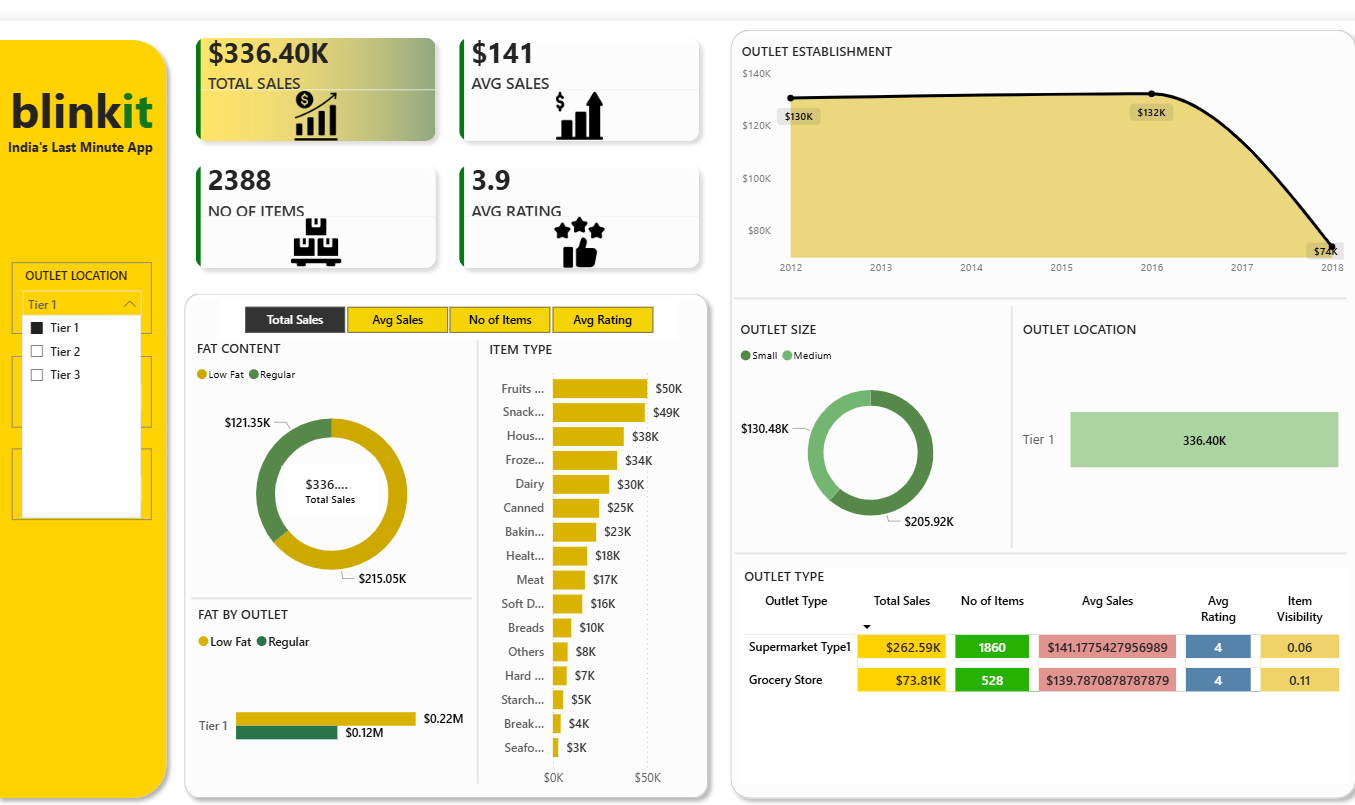

The dashboard page shown, as its layout file describes it:
{"tool":"powerbi","page":{"name":"Page 1","canvas":[1400,800],"ordinal":0},"visuals":[{"type":"shape","box":[0,10.5,190.6,789.5],"z":0},{"type":"textbox","box":[8.9,52.1,173,81.4],"z":1000},{"type":"textbox","box":[15.3,114.5,160.2,30.5],"z":2000},{"type":"cardVisual","fields":{"Data":["BlinkIT Grocery Data.Total Sales","BlinkIT Grocery Data.Avg Sales","BlinkIT Grocery Data.No of Items","BlinkIT Grocery Data.Avg Rating"]},"box":[194.6,0,546.9,268.3],"z":3000},{"type":"shape","box":[190.6,268.7,550.8,531.3],"z":4000},{"type":"donutChart","title":"FAT CONTENT","fields":{"Y":["BlinkIT Grocery Data.Total Sales"],"Category":["BlinkIT Grocery Data.Item Fat Content"]},"box":[207.1,322.7,285.2,271.7],"z":5000},{"type":"slicer","fields":{"Values":["Metrics.Metrics"]},"box":[235.6,283.7,465.3,40.5],"z":6000},{"type":"cardVisual","fields":{"Data":["BlinkIT Grocery Data.Total Sales"]},"box":[294.2,447.3,109.6,60],"z":7000},{"type":"clusteredBarChart","title":"FAT BY OUTLET","fields":{"Y":["BlinkIT Grocery Data.Total Sales"],"Category":["BlinkIT Grocery Data.Outlet Location Type"],"Series":["BlinkIT Grocery Data.Item Fat Content"]},"box":[208.4,594.1,284.4,194.6],"z":8000},{"type":"shape","box":[207.1,579.3,285.2,15],"z":9000},{"type":"shape","box":[492.3,324.2,12,451.8],"z":10000},{"type":"barChart","title":"ITEM TYPE","fields":{"Y":["BlinkIT Grocery Data.Total Sales"],"Category":["BlinkIT Grocery Data.Item Type"]},"box":[504.3,324.2,226.6,463.8],"z":11000},{"type":"shape","box":[745.9,0,654.4,800],"z":12000},{"type":"lineChart","title":" OUTLET ESTABLISHMENT","fields":{"Category":["BlinkIT Grocery Data.Outlet Establishment Year"],"Y":["BlinkIT Grocery Data.Total Sales"]},"box":[762.2,21.9,622.9,246.4],"z":13000},{"type":"shape","box":[758.8,275.2,622.9,15],"z":14000},{"type":"donutChart","title":"OUTLET SIZE","fields":{"Y":["BlinkIT Grocery Data.Total Sales"],"Category":["BlinkIT Grocery Data.Outlet Size"]},"box":[761.1,304,275.2,225.7],"z":15000},{"type":"shape","box":[1035.1,290.2,12.7,246.4],"z":16000},{"type":"funnel","title":"OUTLET LOCATION","fields":{"Category":["BlinkIT Grocery Data.Outlet Location Type"],"Y":["Sum(BlinkIT Grocery Data.Sales)"]},"box":[1047.8,304,336.2,225.7],"z":17000},{"type":"shape","box":[758.8,534.3,622.9,15],"z":18000},{"type":"pivotTable","title":"OUTLET TYPE","fields":{"Rows":["BlinkIT Grocery Data.Outlet Type"],"Values":["BlinkIT Grocery Data.Total Sales","BlinkIT Grocery Data.No of Items","BlinkIT Grocery Data.Avg Sales","BlinkIT Grocery Data.Avg Rating","Avg(BlinkIT Grocery Data.Item Visibility)"]},"box":[764.5,556.1,620.6,219.9],"z":19000},{"type":"slicer","fields":{"Values":["BlinkIT Grocery Data.Outlet Location Type"]},"box":[24.2,245.5,142.4,72.5],"z":20000},{"type":"slicer","fields":{"Values":["BlinkIT Grocery Data.Outlet Size"]},"box":[24.2,340.8,142.4,72.5],"z":21000},{"type":"slicer","fields":{"Values":["BlinkIT Grocery Data.Item Type"]},"box":[24.2,435,142.4,72.5],"z":22000}]}

Visuals, with their boxes on the page's 1400x800 design canvas (x1, y1, x2, y2). These are canvas units, not pixel positions in the 1355x805 screenshot, which may show the page scaled, cropped or inside an application window:
shape: 0/10/191/800
textbox: 9/52/182/134
textbox: 15/114/176/145
cardVisual - BlinkIT Grocery Data.Total Sales x BlinkIT Grocery Data.Avg Sales: 195/0/742/268
shape: 191/269/741/800
"FAT CONTENT" donutChart: 207/323/492/594
slicer - Metrics.Metrics: 236/284/701/324
cardVisual - BlinkIT Grocery Data.Total Sales: 294/447/404/507
"FAT BY OUTLET" clusteredBarChart: 208/594/493/789
shape: 207/579/492/594
shape: 492/324/504/776
"ITEM TYPE" barChart: 504/324/731/788
shape: 746/0/1400/800
" OUTLET ESTABLISHMENT" lineChart: 762/22/1385/268
shape: 759/275/1382/290
"OUTLET SIZE" donutChart: 761/304/1036/530
shape: 1035/290/1048/537
"OUTLET LOCATION" funnel: 1048/304/1384/530
shape: 759/534/1382/549
"OUTLET TYPE" pivotTable: 764/556/1385/776
slicer - BlinkIT Grocery Data.Outlet Location Type: 24/246/167/318
slicer - BlinkIT Grocery Data.Outlet Size: 24/341/167/413
slicer - BlinkIT Grocery Data.Item Type: 24/435/167/508
